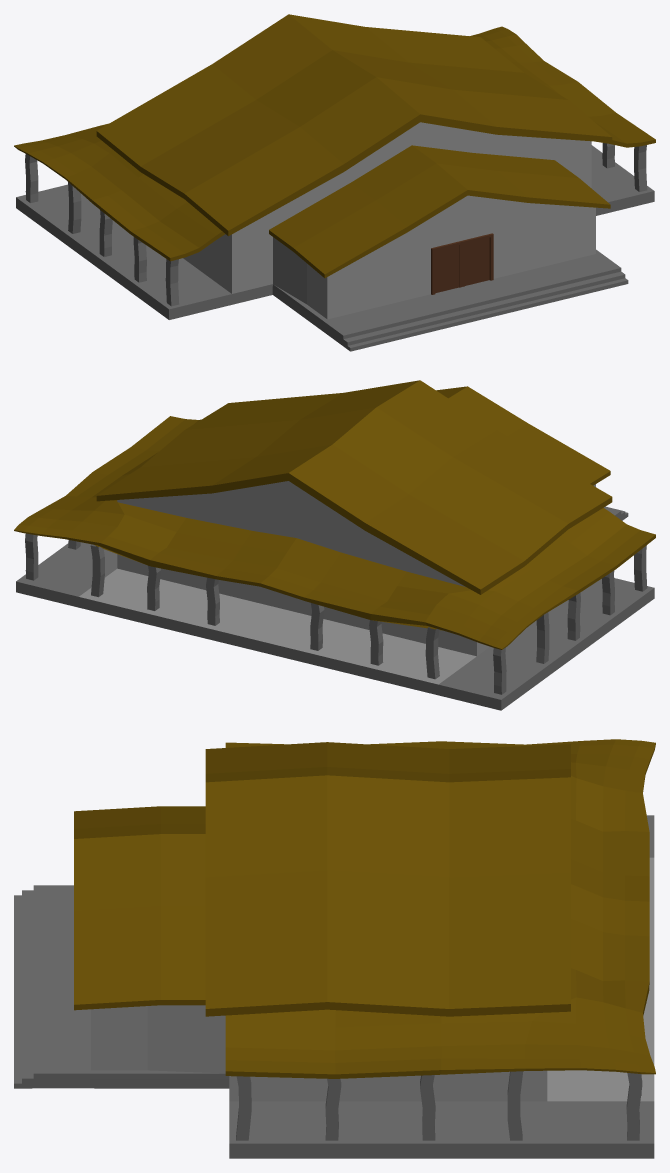
The model's file is Hospital.fbx.
3 views of the same model, one above another, from view 1: azimuth 30°, elevation 25°; view 2: azimuth 150°, elevation 25°; view 3: azimuth 270°, elevation 25° (orthographic). The views are drawn at different scales.
Parts seen in each view (by area): view 1: Hospital, Porta; view 2: Hospital; view 3: Hospital.
Part boxes in pixels (bbox=[...]): Hospital: bbox=[14, 14, 655, 351]; Porta: bbox=[431, 233, 493, 294]; Hospital: bbox=[14, 380, 655, 710]; Hospital: bbox=[14, 739, 655, 1158].
Bounding box in the file's own units: 2864 × 883 × 2344.
